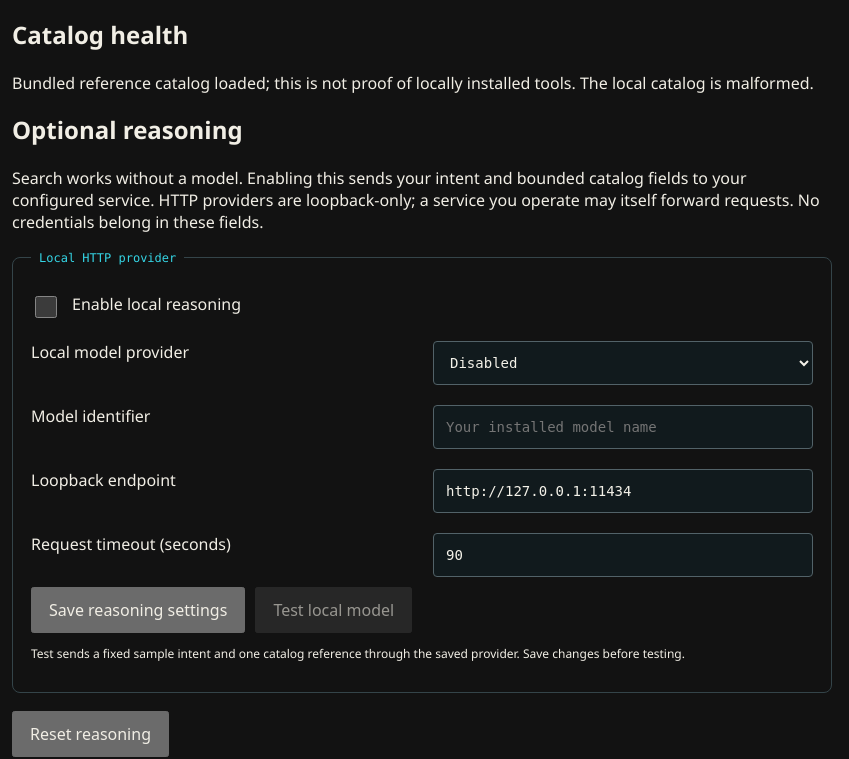
Test: NativeSettingsPanel › requires an explicit confirmation before resetting
Expected: the field labelled "Loopback endpoint" is shown, [433, 469, 813, 513]
Click the button "Reset reasoning" at (90, 734), box [12, 711, 169, 757]
(page scrolled)
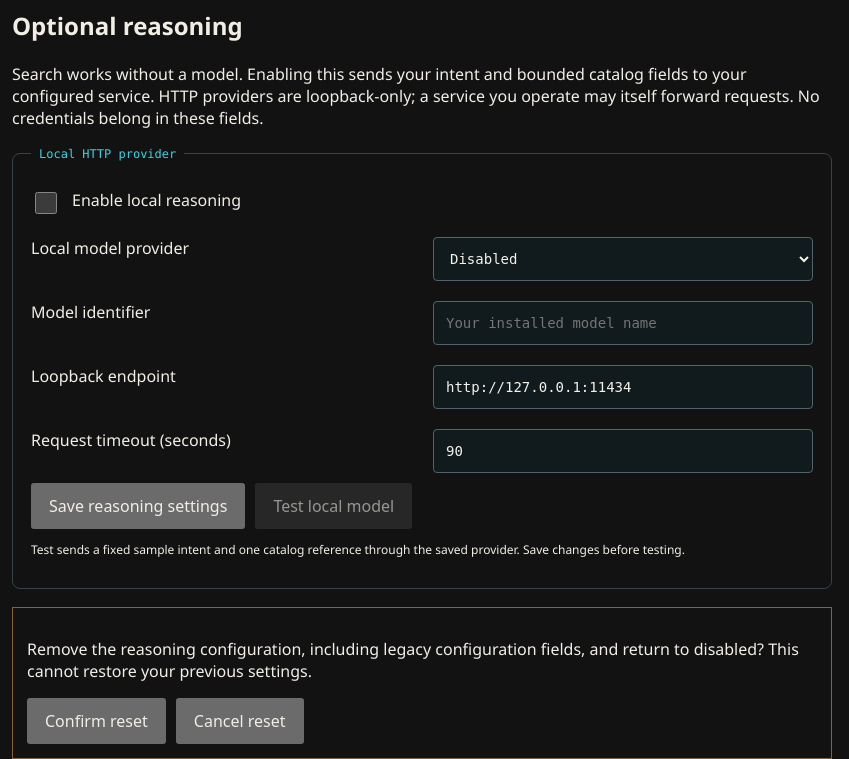
Click the button "Confirm reset" at (96, 721), box [27, 698, 166, 744]
(page scrolled)
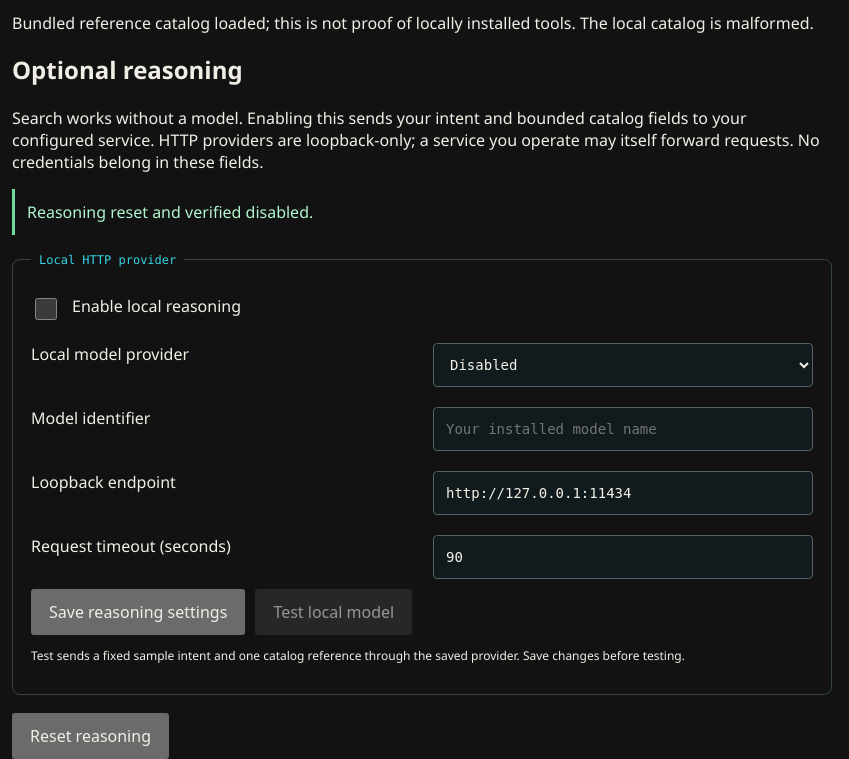
Now the text "Reasoning reset and verified disabled." is shown, box [12, 189, 832, 235]
